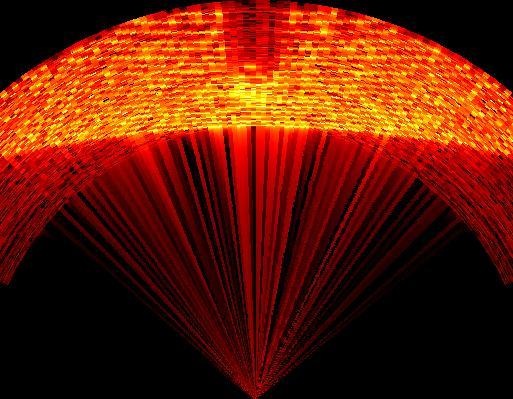box_crate: (220, 0, 300, 77)
